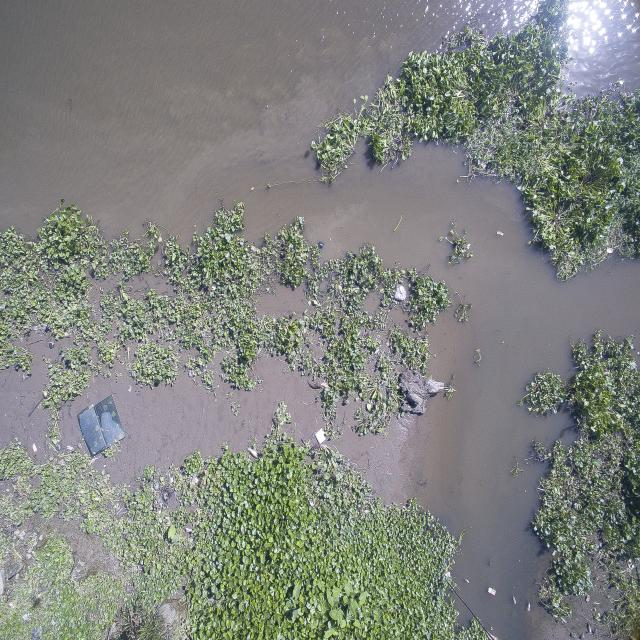plastic: (74, 397, 133, 462), (424, 371, 443, 400), (392, 280, 407, 305)
